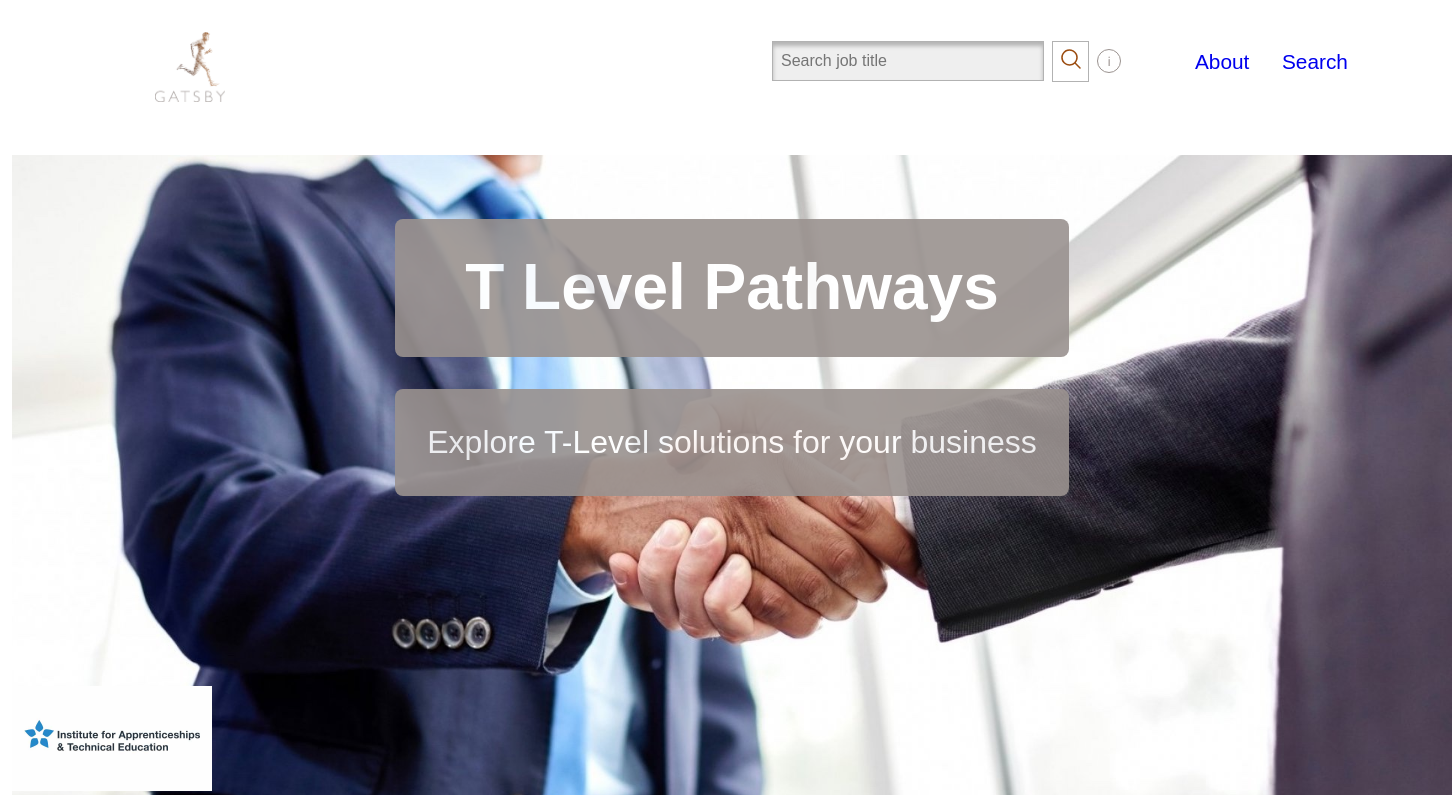
Test case: Search feature › prompts the user for input if there is no query available
Click the button: (1071, 62) [1052, 41, 1089, 83]
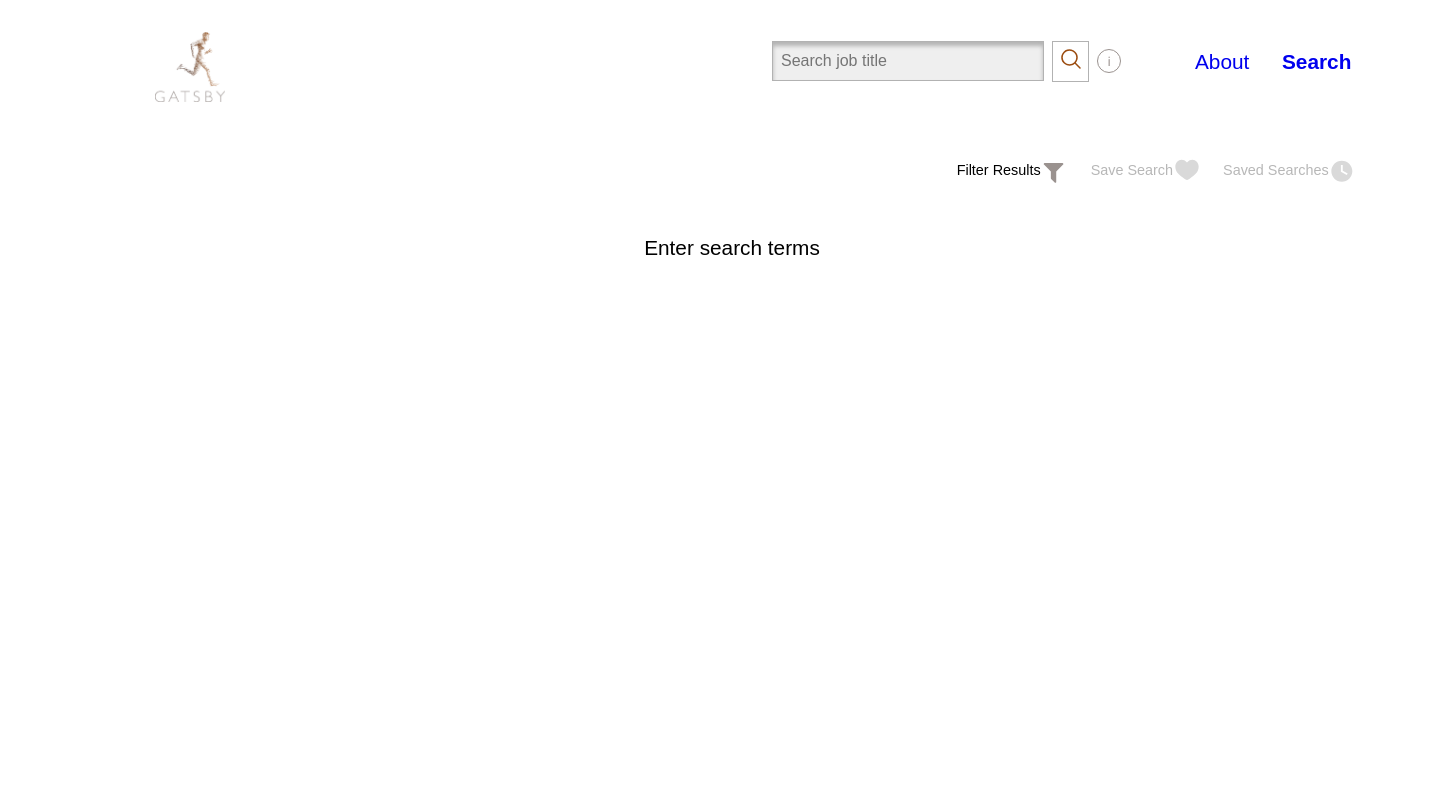
Now the text "Enter search terms" is shown, box [644, 236, 820, 259]
